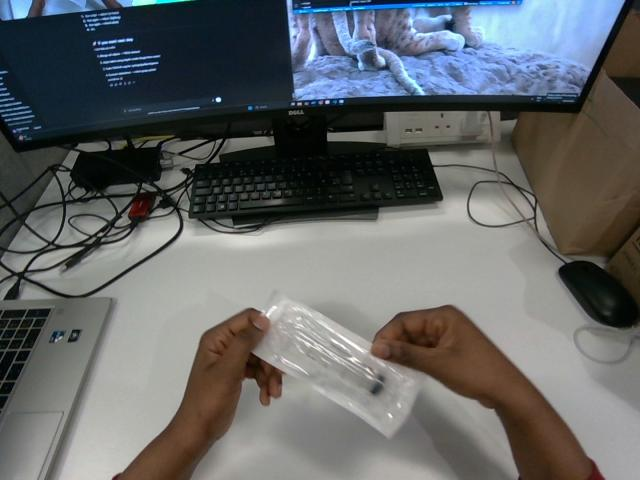syringe: (253, 293, 420, 437)
